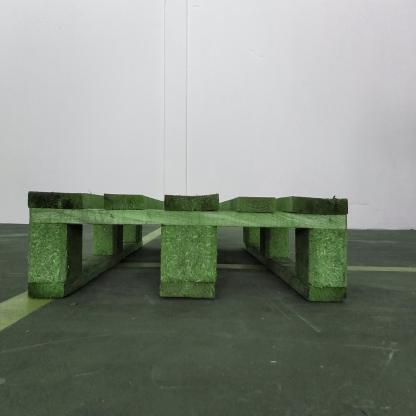BoxFace: (22, 186, 352, 310)
